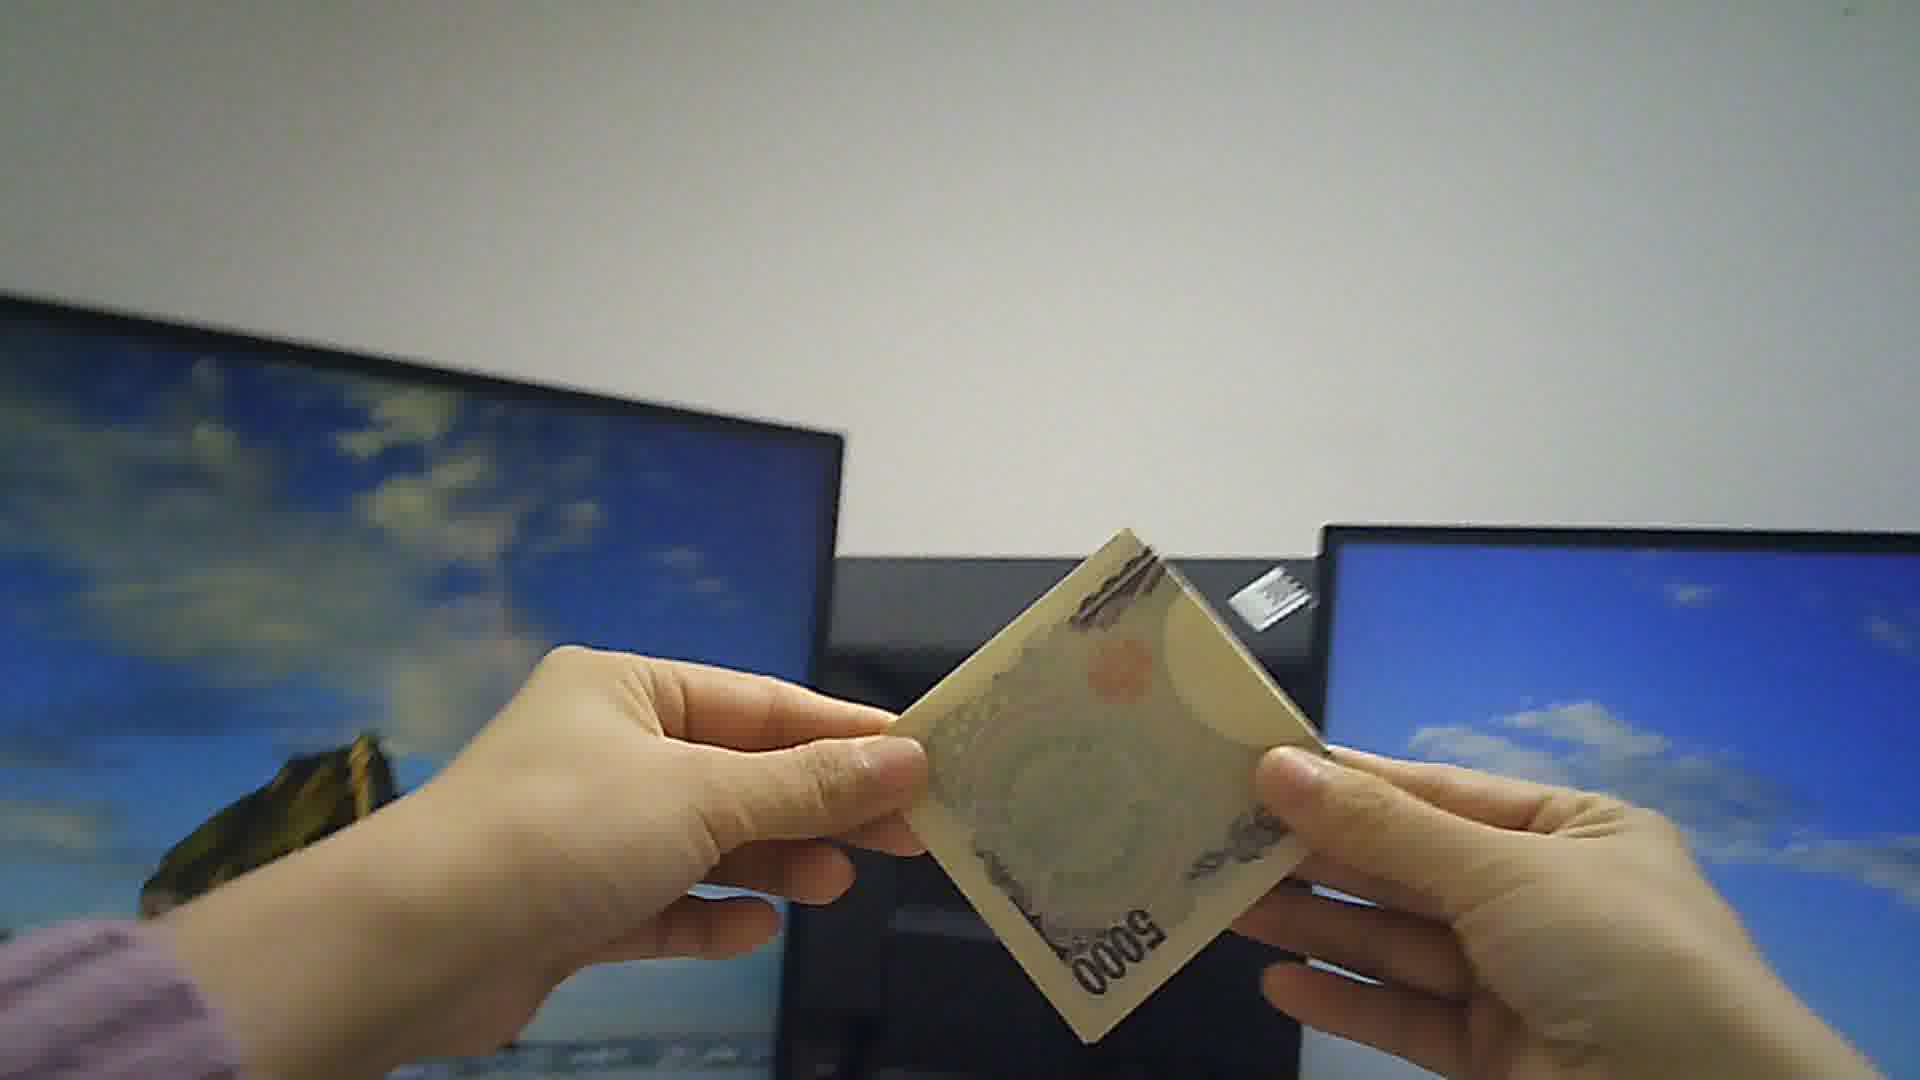5,000 Yen: (862, 502, 1367, 1038)
